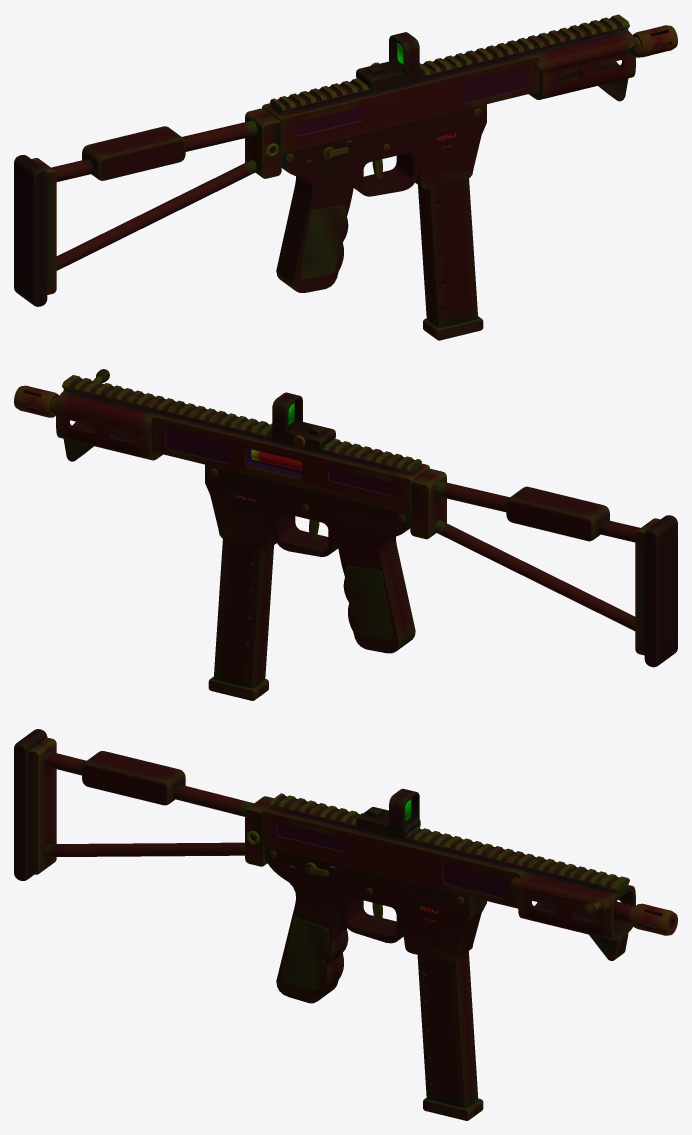
Rendered from vespa9.glb.
3 renders of one model, top to bottom at view 1: azimuth 30°, elevation 25°; view 2: azimuth 150°, elevation 25°; view 3: azimuth 330°, elevation 25°, orthographic.
Parts seen in each view (by area): view 1: base; view 2: base; view 3: base.
Part boxes in pixels (left/top/right/bottom): base: left=14, top=14, right=677, bottom=340; base: left=14, top=369, right=677, bottom=700; base: left=14, top=729, right=677, bottom=1120.
Size of the model in its own units: 0.626 by 0.2815 by 0.0675.
